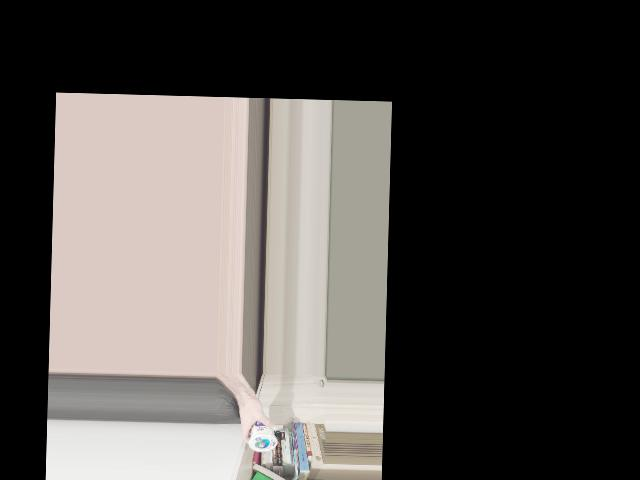cotage: (245, 416, 278, 454)
